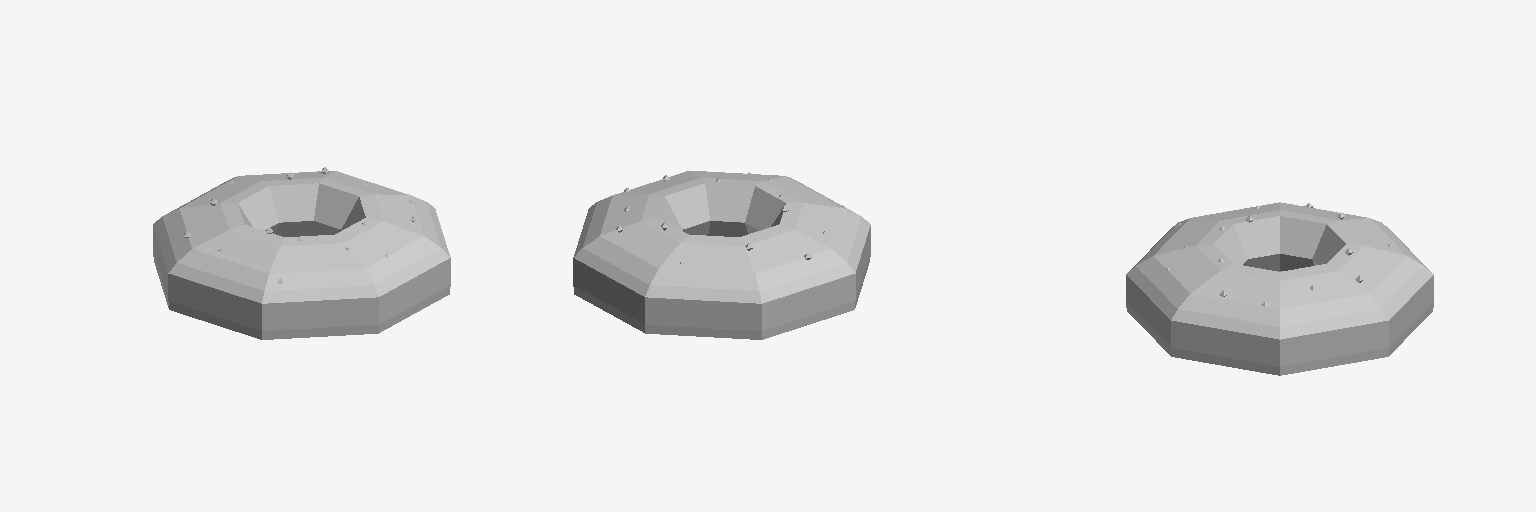
The model's file is Bagel.obj.
3 views of the same model, side by side, from view 1: azimuth 30°, elevation 25°; view 2: azimuth 150°, elevation 25°; view 3: azimuth 270°, elevation 25° (orthographic).
Visible parts, largest first — view 1: Bagel; view 2: Bagel; view 3: Bagel.
Boxes of the visible parts, x1=… form: Bagel: x1=153, y1=167, x2=450, y2=339; Bagel: x1=573, y1=171, x2=870, y2=339; Bagel: x1=1126, y1=202, x2=1433, y2=375.
Bounding box in the file's own units: 1 × 0.2242 × 0.7444.